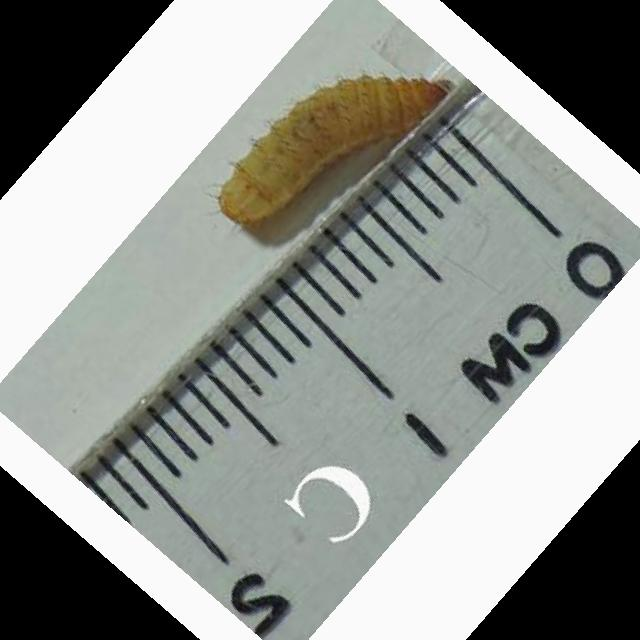Maggot: (217, 65, 456, 228)
